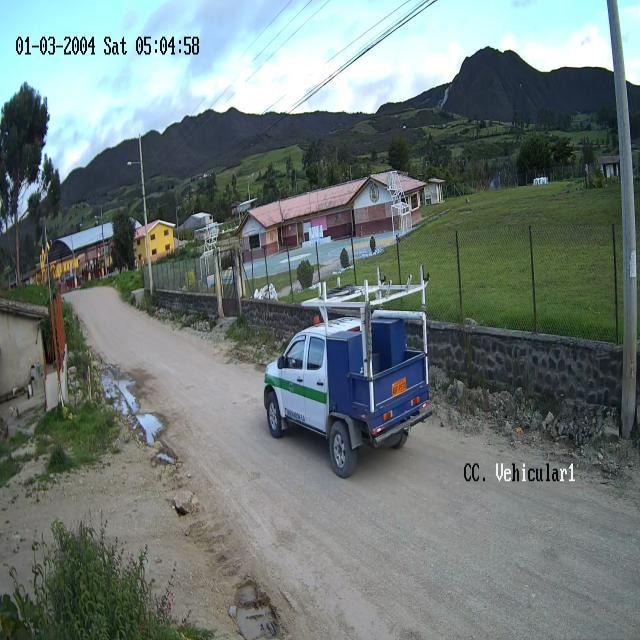CMT: (263, 308, 431, 479)
